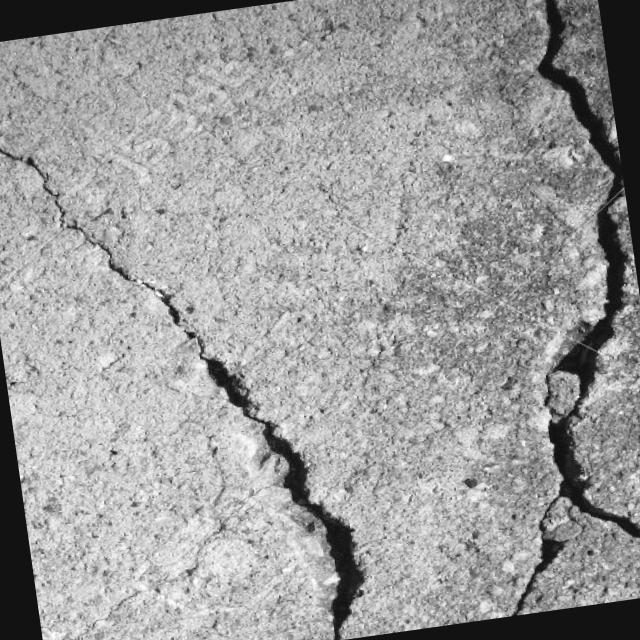crack: (0, 72, 385, 640), (423, 0, 640, 615)
